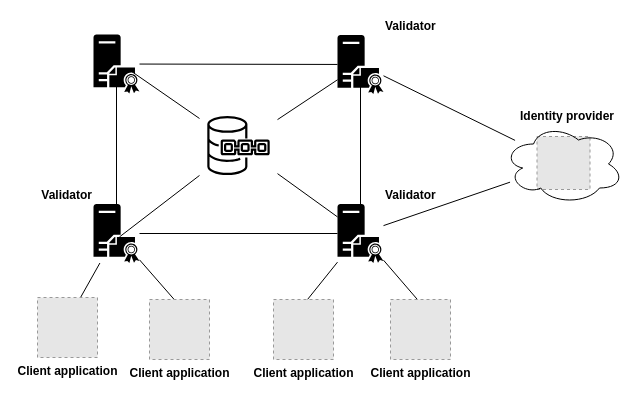
Some shapes in this 641 by 398 pixel diagram are drawn without their labels. Grey dashed boxes stand in for pictures. Each missing label, with the centre of its shape:
Auditor: point 116,63
Distributed Ledger: point 238,145
